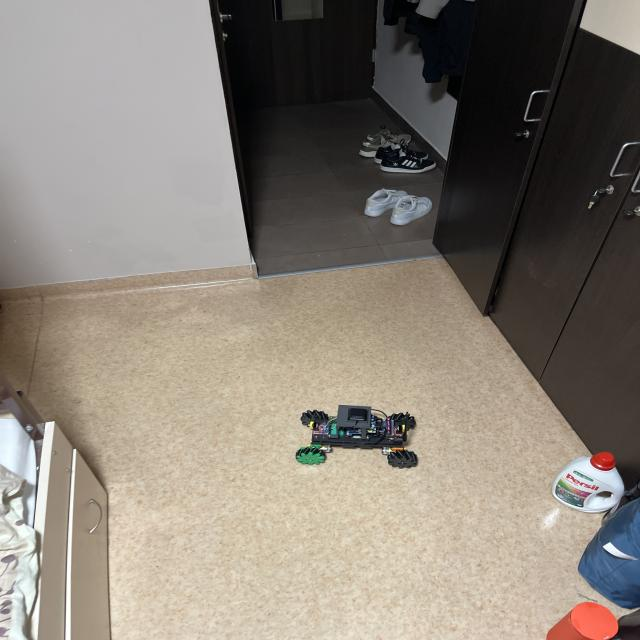robot: (296, 405, 418, 469)
